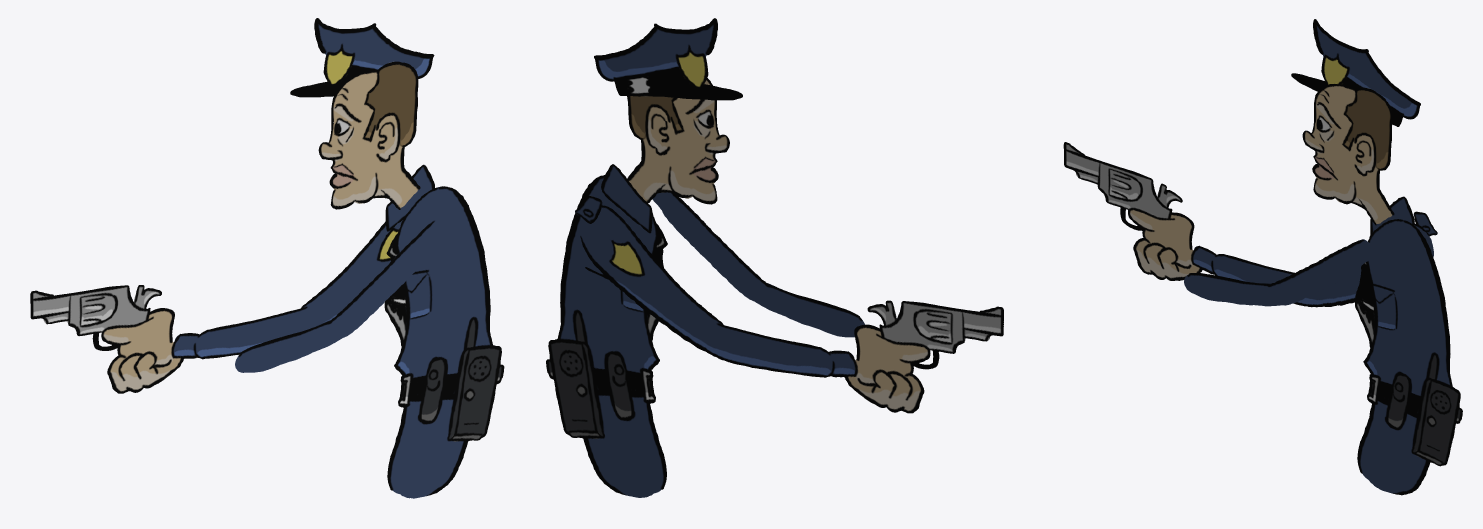
File: cop_window_side.fbx
3 renders of one model, left to right at view 1: azimuth 30°, elevation 25°; view 2: azimuth 150°, elevation 25°; view 3: azimuth 330°, elevation 25°, orthographic. The views are drawn at different scales.
Visible parts, largest first — view 1: Body1, FArm1, Head1, BArm1, Hat, Collar; view 2: FArm1, Body1, Head1, Hat, BArm1, Collar; view 3: Body1, FArm1, Head1, BArm1, Hat, Collar.
Boxes of the visible parts, x1,y1,x2,y2 form: Body1: (384, 186, 504, 498); FArm1: (30, 220, 402, 393); Head1: (318, 61, 420, 209); BArm1: (235, 220, 444, 372); Hat: (290, 18, 434, 97); Collar: (385, 164, 434, 231); FArm1: (579, 205, 1003, 413); Body1: (546, 175, 667, 497); Head1: (627, 78, 729, 204); Hat: (594, 18, 742, 100); BArm1: (652, 192, 864, 337); Collar: (601, 164, 652, 233); Body1: (1355, 219, 1462, 495); FArm1: (1063, 142, 1433, 307); Head1: (1302, 84, 1394, 225); BArm1: (1184, 239, 1372, 306); Hat: (1291, 19, 1420, 126); Collar: (1370, 196, 1414, 234).
Bounding box in the file's own units: 699 × 703 × 100.
